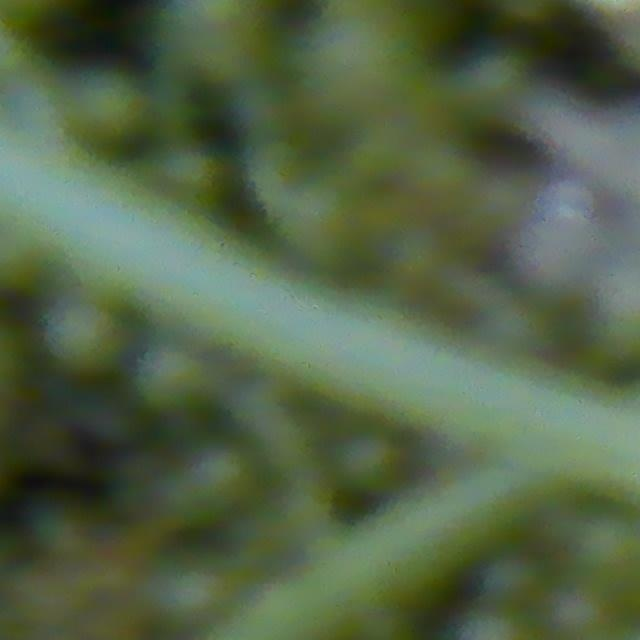SeaGrape: (148, 0, 269, 93), (268, 174, 362, 265), (173, 441, 257, 521), (565, 508, 640, 585), (134, 341, 210, 413), (43, 299, 122, 362), (68, 73, 139, 139), (545, 579, 610, 640), (481, 551, 543, 607)
